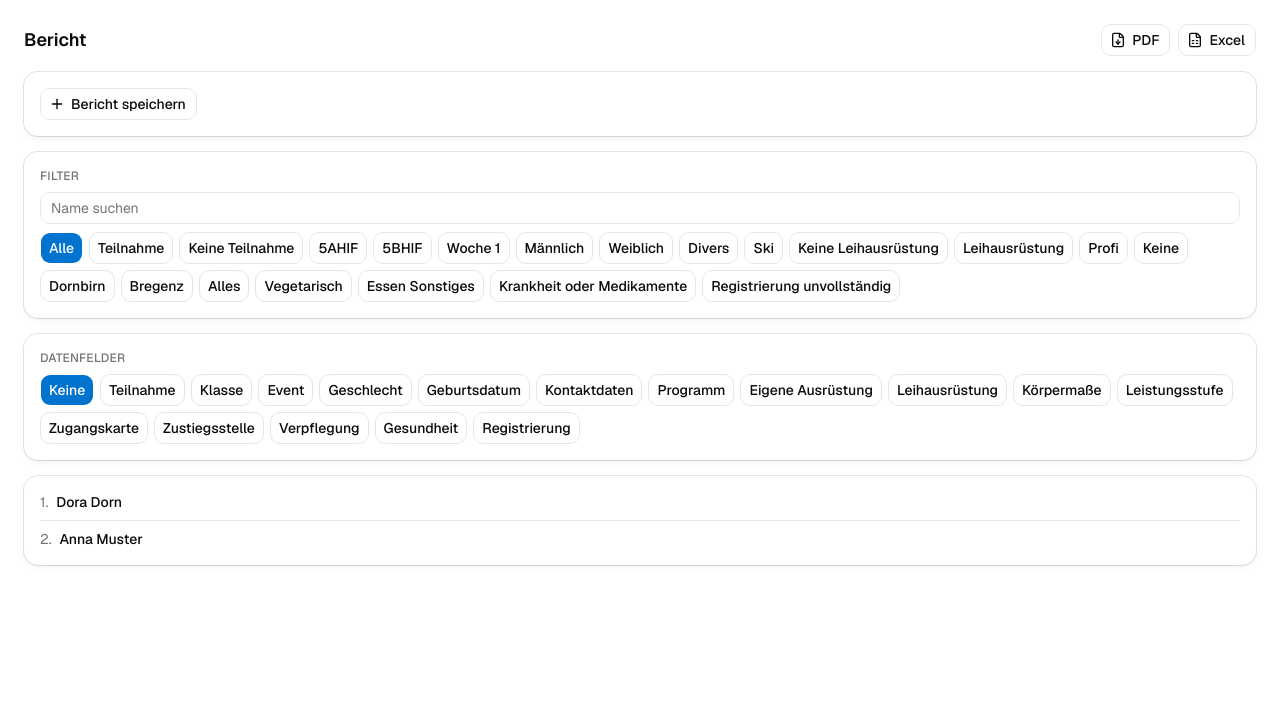
Scenario: ReportView › filters by the event a student is assigned to
Click the button with aria-label "Event: Woche 1".
click(474, 248)  # box [444,238,502,258]
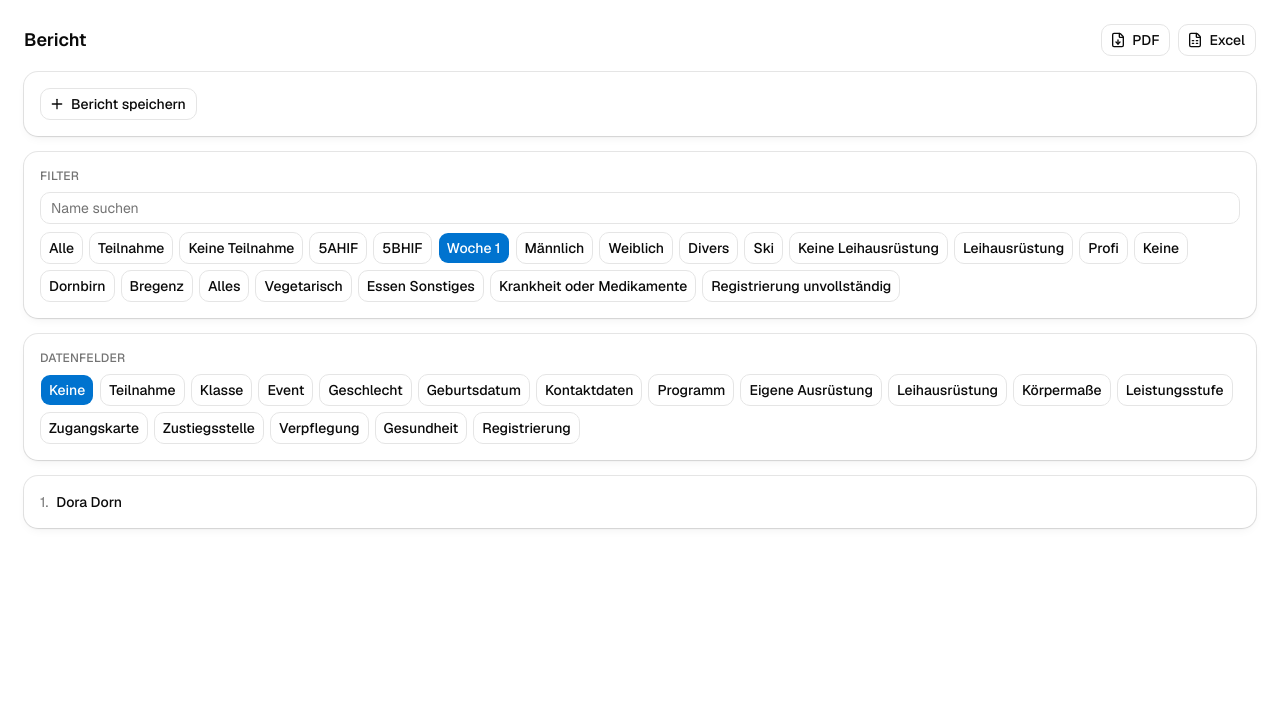
Now the number of list items is 1, box [40,493,122,511]
